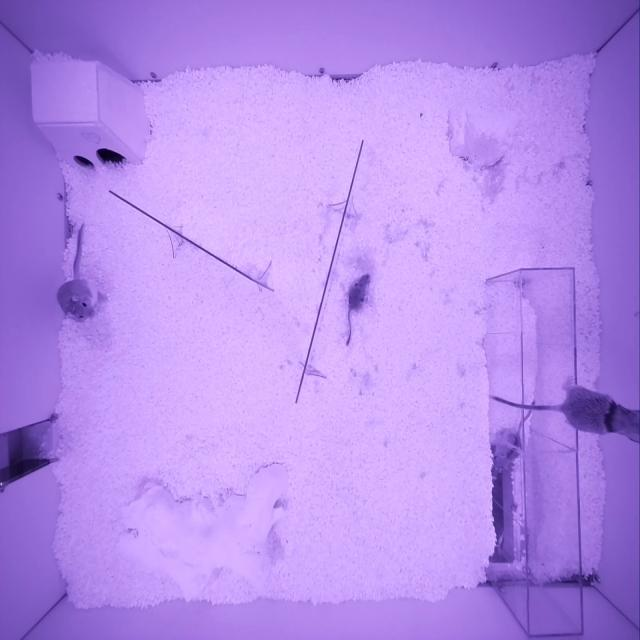adult_back: (56, 277, 108, 323)
adult_front: (561, 375, 639, 442)
pup_spotted: (348, 274, 371, 311)
pup_v_stripe: (493, 427, 522, 470)
